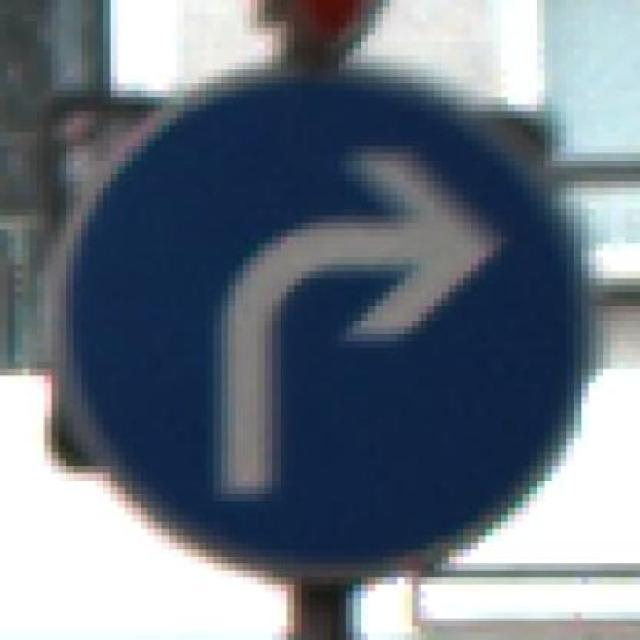Turn right ahead: (37, 49, 611, 592)
